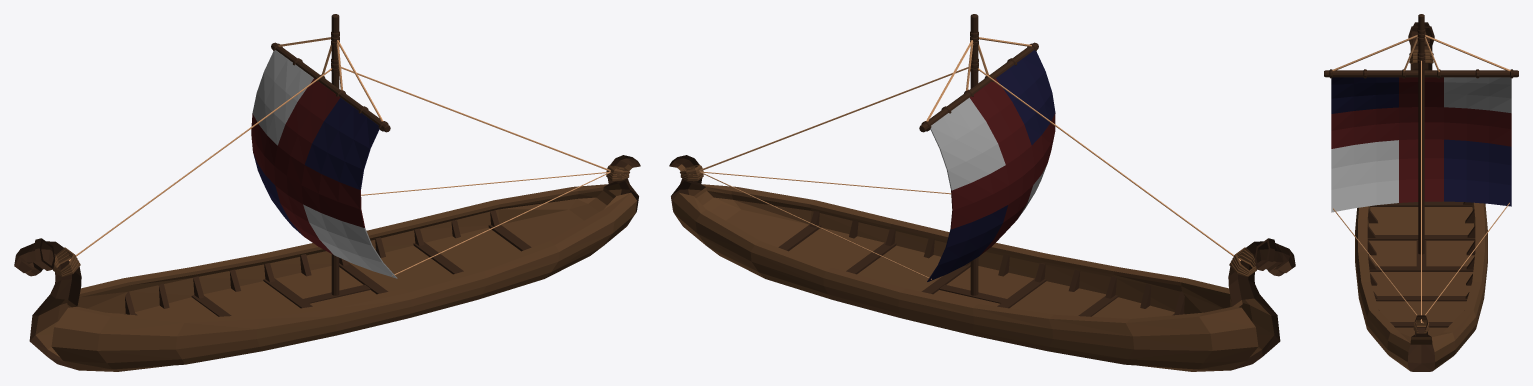
Rendered from Drakkar.FBX.
3 views of the same model, side by side, from view 1: azimuth 30°, elevation 25°; view 2: azimuth 150°, elevation 25°; view 3: azimuth 270°, elevation 25° (orthographic). The views are drawn at different scales.
Parts seen in each view (by area): view 1: Plane001, Box033, Cylinder003, Cylinder002, Cylinder009, Cylinder008; view 2: Plane001, Box033, Cylinder003, Cylinder002, Cylinder009, Cylinder008; view 3: Box033, Plane001, Cylinder003, Cylinder002, Box004, Box007, Box005, Box008, Cylinder008, Box006, Cylinder005, Cylinder004 (+3 smaller).
Part boxes in pixels (box(x1,y1,x2,y2)): Plane001: box(14, 155, 640, 371); Box033: box(251, 50, 397, 278); Cylinder003: box(271, 42, 390, 132); Cylinder002: box(331, 14, 339, 295); Cylinder009: box(68, 68, 331, 261); Cylinder008: box(341, 66, 610, 171); Plane001: box(669, 155, 1295, 371); Box033: box(927, 50, 1055, 281); Cylinder003: box(919, 42, 1038, 132); Cylinder002: box(970, 14, 978, 295); Cylinder009: box(978, 68, 1241, 261); Cylinder008: box(699, 67, 968, 171); Box033: box(1331, 77, 1511, 212); Plane001: box(1355, 22, 1487, 371); Cylinder003: box(1324, 69, 1518, 78); Cylinder002: box(1417, 14, 1425, 254); Box004: box(1369, 266, 1473, 271); Box007: box(1367, 235, 1475, 240); Box005: box(1375, 296, 1467, 301); Box008: box(1370, 201, 1472, 206); Cylinder008: box(1421, 60, 1421, 323); Box006: box(1390, 322, 1452, 327); Cylinder005: box(1425, 35, 1510, 71); Cylinder004: box(1332, 35, 1417, 71).
Bounding box in the file's own units: 647 × 298 × 205.
